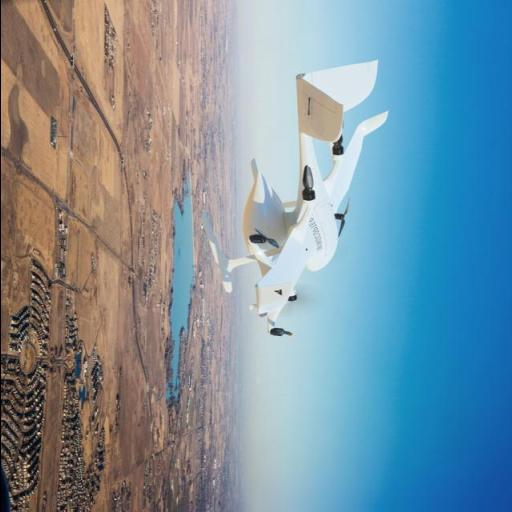uav: (218, 54, 394, 338)
